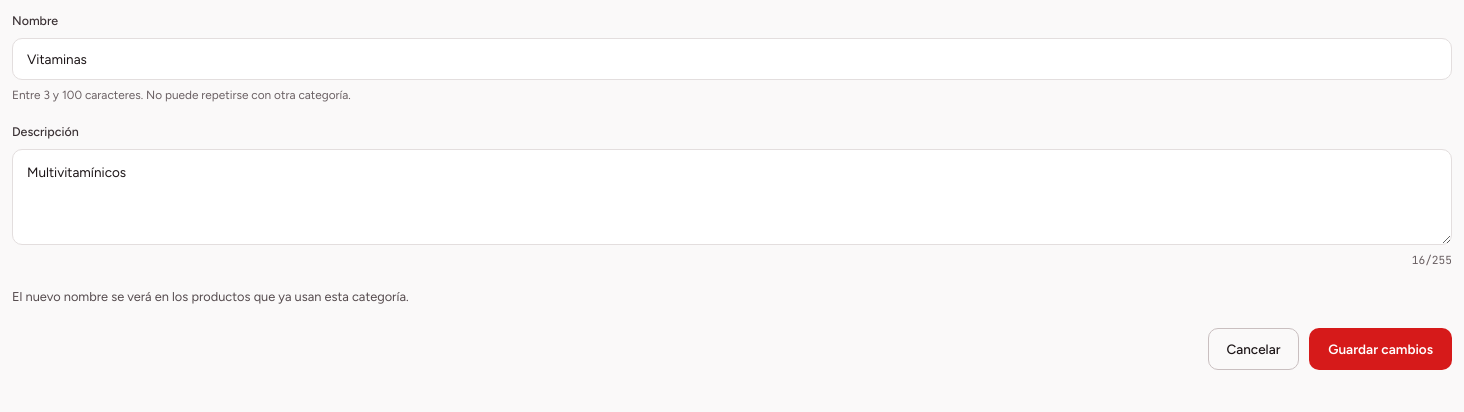
Scenario: EditCategoryForm › shows the duplicate conflict the api returns on the name
Replace the text in the field labelled "Nombre" with "Minerales" at (732, 59), box [12,38,1452,80]
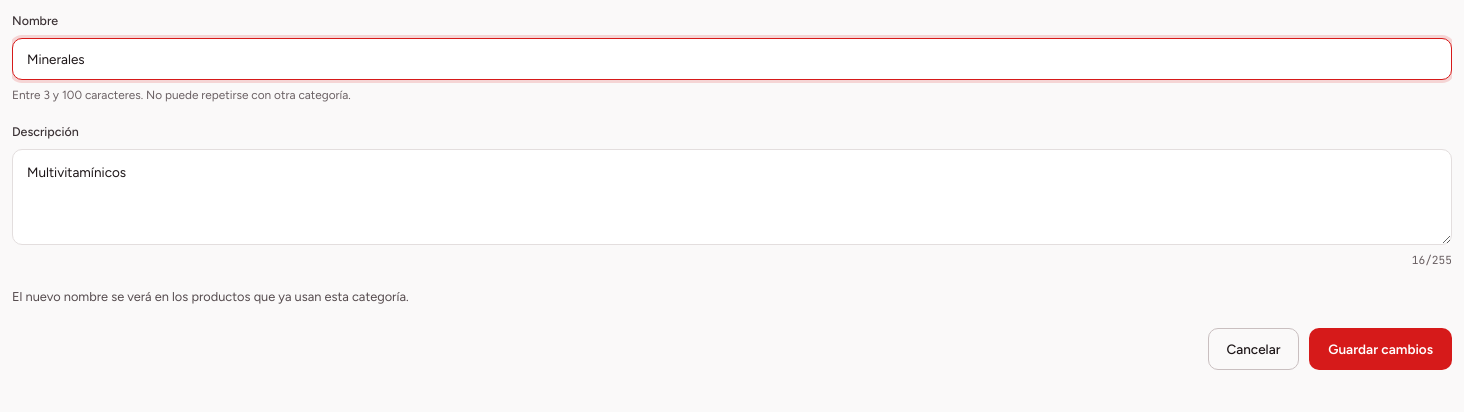
Click the button "Guardar cambios" at (1381, 349), box [1309,328,1452,370]
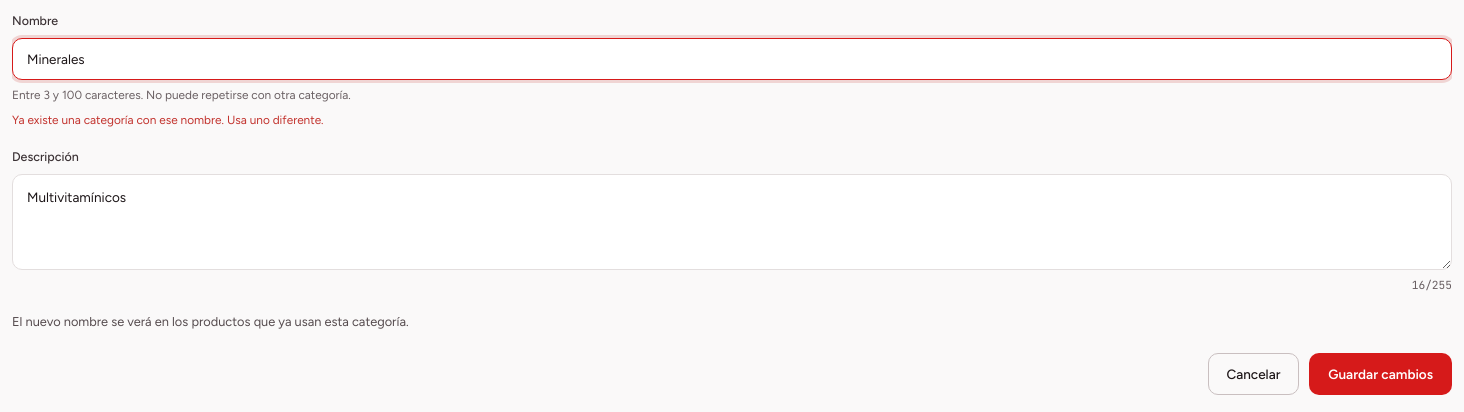
Expected: the text "Ya existe una categoría con ese nombre. Usa uno diferente." is shown, [12,113,324,127]
